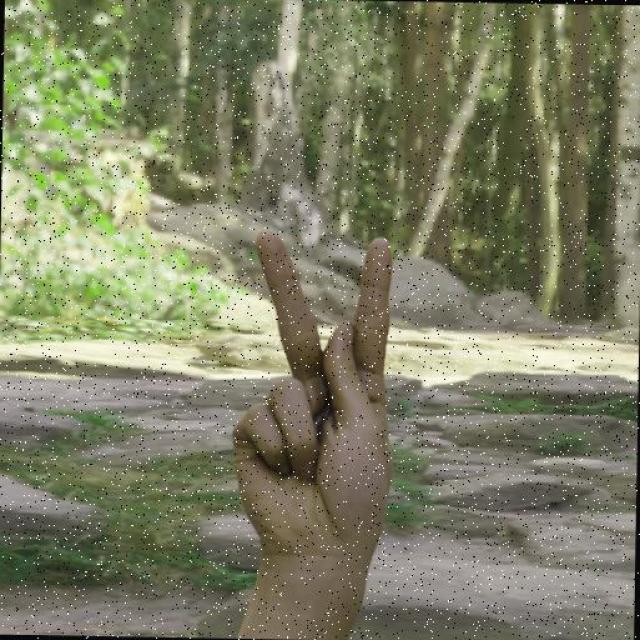K: (222, 220, 419, 602)
